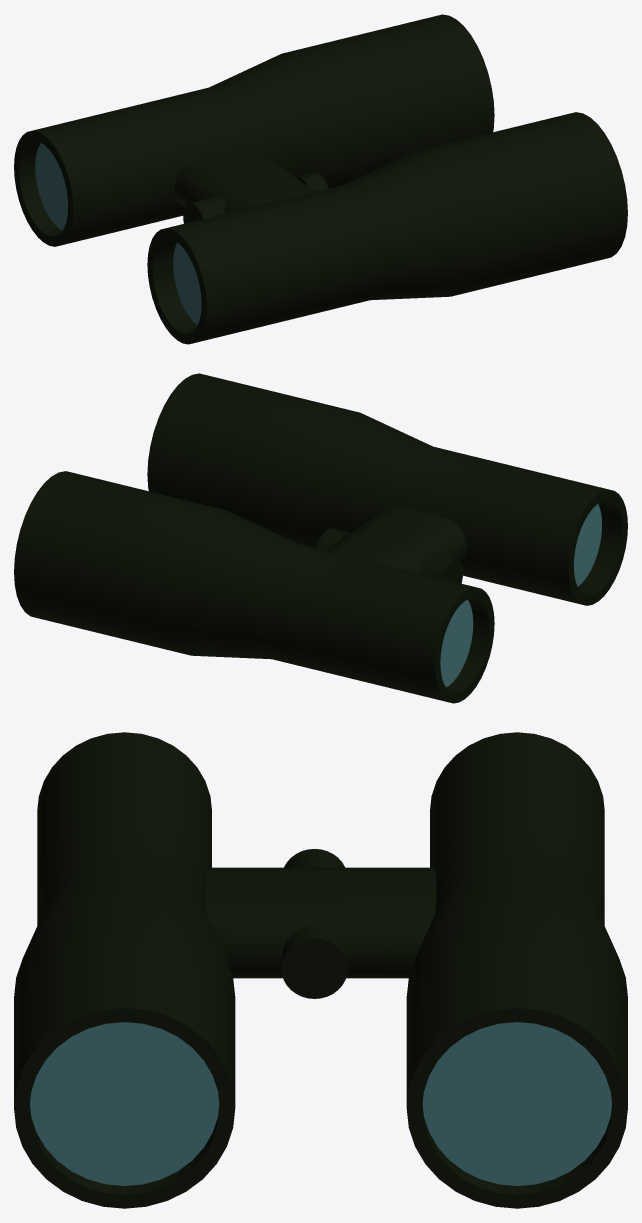
Rendered from Binoculares.fbx.
3 renders of one model, top to bottom at view 1: azimuth 30°, elevation 25°; view 2: azimuth 150°, elevation 25°; view 3: azimuth 270°, elevation 25°, orthographic. The views are drawn at different scales.
Visible parts, largest first — view 1: Binoculares; view 2: Binoculares; view 3: Binoculares.
Boxes of the visible parts, left/top/right/bottom form: Binoculares: left=14, top=14, right=627, bottom=344; Binoculares: left=14, top=373, right=627, bottom=703; Binoculares: left=14, top=732, right=627, bottom=1208.
Bounding box in the file's own units: 20.07 × 6.32 × 17.54.
